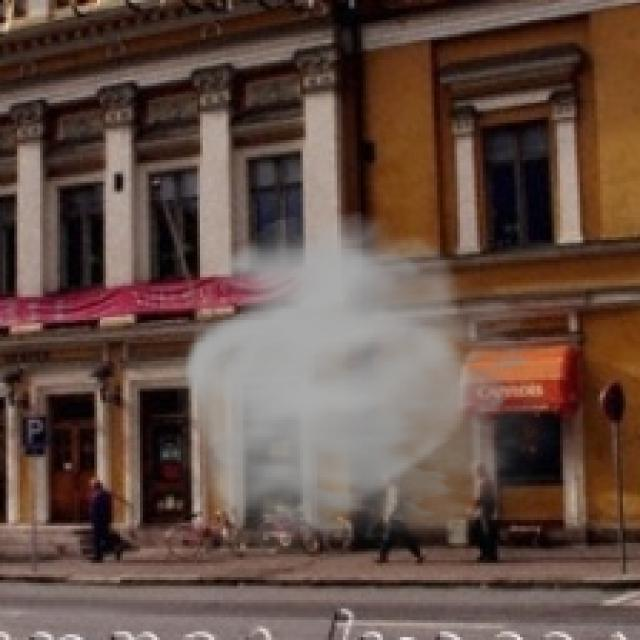Smoke: (177, 211, 577, 563)
